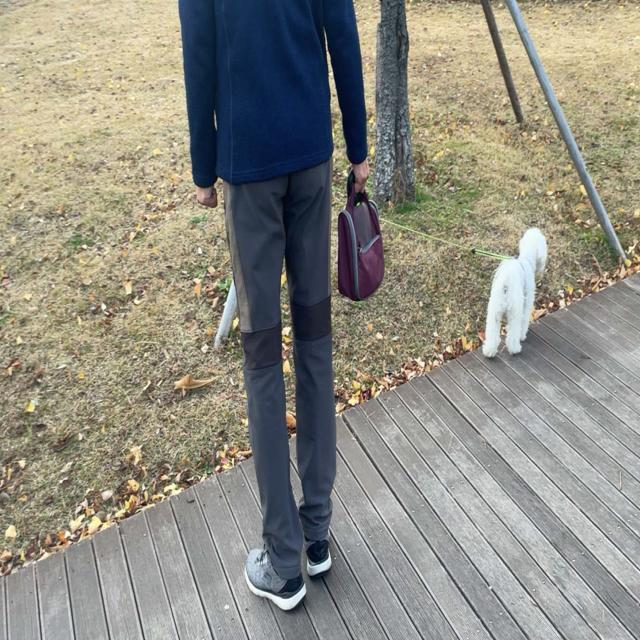Leashed_Dog: (290, 158, 547, 359)
